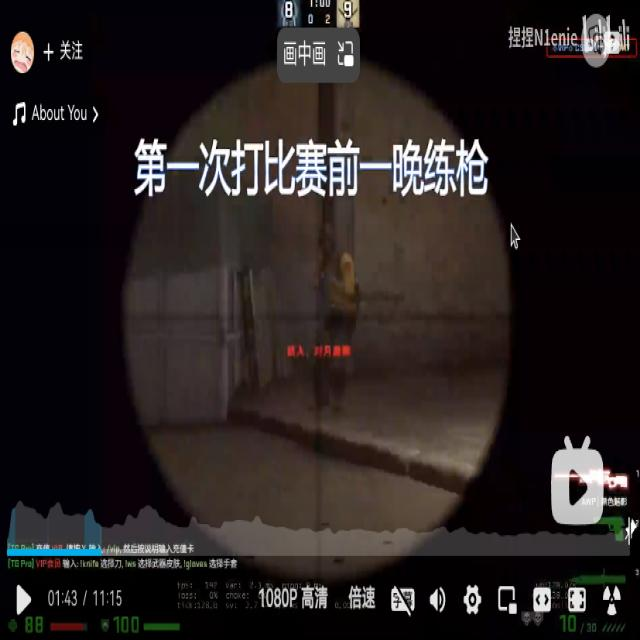person2: (311, 227, 359, 418)
